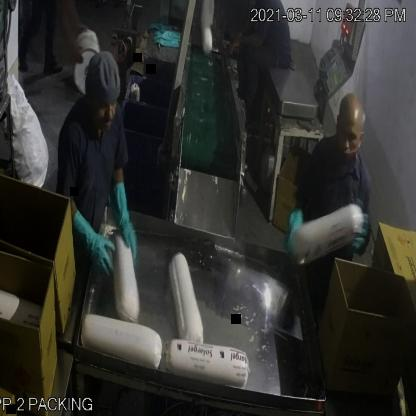glove: (72, 200, 115, 278), (109, 174, 145, 262), (285, 197, 309, 269), (349, 200, 367, 264)
no_glove: (59, 0, 85, 68), (226, 29, 270, 60)
